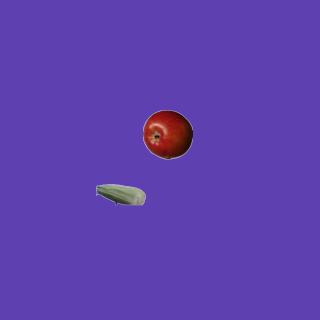Apple Braeburn: (142, 109, 192, 159)
Corn Husk: (95, 169, 145, 219)
